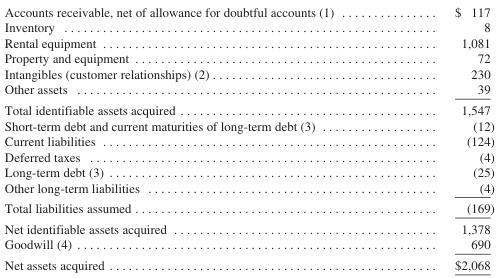table: (3, 4, 493, 271)
table column: (3, 4, 393, 271), (393, 4, 493, 271)
table row: (3, 197, 493, 218), (3, 81, 493, 99), (3, 99, 493, 117), (3, 179, 493, 197), (3, 218, 493, 236), (3, 236, 493, 254), (3, 254, 493, 271), (3, 34, 493, 50), (3, 65, 493, 81), (3, 132, 493, 148), (3, 163, 493, 179), (3, 4, 493, 19), (3, 19, 493, 34), (3, 50, 493, 65), (3, 117, 493, 132), (3, 148, 493, 163)
